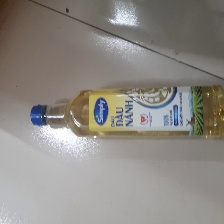Simply: (29, 84, 224, 138)
